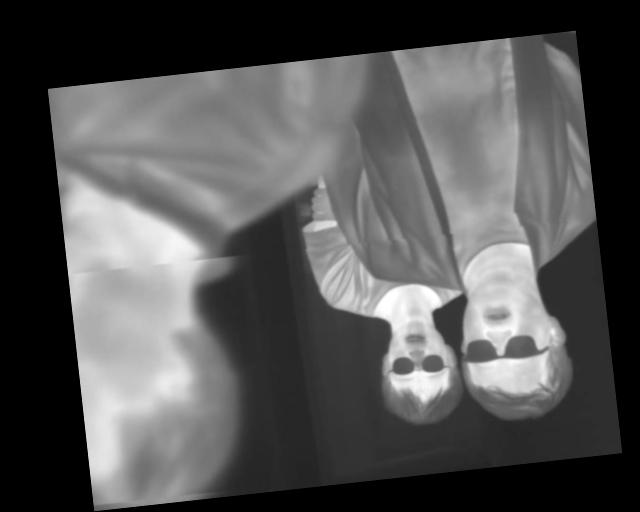face: (452, 268, 578, 428), (372, 313, 465, 430)
